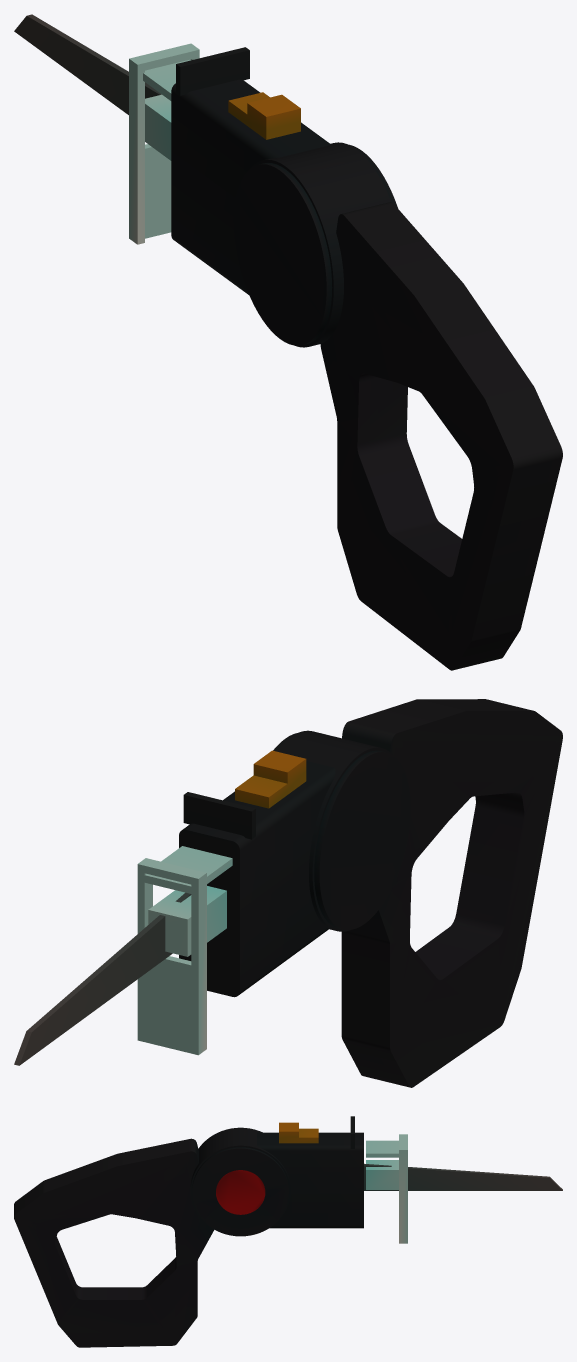
3 views of the same model, one above another, from view 1: azimuth 30°, elevation 25°; view 2: azimuth 150°, elevation 25°; view 3: azimuth 270°, elevation 25° (orthographic). The views are drawn at different scales.
Parts seen in each view (by area): view 1: grip, casing, back, housing, blade, post.001, lip, lower_plate, neck, pad_step, pad, crossbar (+1 smaller); view 2: grip, casing, back, blade, lower_plate, housing, neck, lip, post.001, upper_support, pad, pad_step (+2 smaller); view 3: grip, casing, rim, blade, housing, red_hub, neck, recessed_face, post.002, upper_support, pad, pad_step.
Part boxes in pixels (x1=…): grip: x1=320, y1=202, x2=562, y2=670; casing: x1=171, y1=79, x2=330, y2=294; back: x1=233, y1=163, x2=332, y2=345; housing: x1=251, y1=142, x2=391, y2=347; blade: x1=14, y1=14, x2=161, y2=114; post.001: x1=129, y1=59, x2=144, y2=244; lip: x1=176, y1=47, x2=249, y2=95; lower_plate: x1=145, y1=144, x2=171, y2=238; neck: x1=145, y1=94, x2=171, y2=160; pad_step: x1=247, y1=94, x2=300, y2=130; pad: x1=228, y1=92, x2=300, y2=139; crossbar: x1=129, y1=43, x2=199, y2=71; grip: x1=341, y1=699, x2=562, y2=1087; casing: x1=179, y1=761, x2=335, y2=997; back: x1=314, y1=750, x2=410, y2=929; blade: x1=14, y1=892, x2=191, y2=1065; lower_plate: x1=137, y1=956, x2=198, y2=1055; housing: x1=276, y1=730, x2=393, y2=931; neck: x1=148, y1=886, x2=226, y2=956; lip: x1=183, y1=792, x2=255, y2=839; post.001: x1=191, y1=873, x2=206, y2=1054; upper_support: x1=143, y1=846, x2=232, y2=894; pad: x1=235, y1=770, x2=306, y2=808; pad_step: x1=253, y1=750, x2=306, y2=783; grip: x1=14, y1=1138, x2=213, y2=1347; casing: x1=257, y1=1132, x2=363, y2=1228; rim: x1=192, y1=1147, x2=288, y2=1221; blade: x1=364, y1=1163, x2=562, y2=1190; housing: x1=190, y1=1127, x2=290, y2=1236; red_hub: x1=216, y1=1170, x2=265, y2=1214; neck: x1=366, y1=1160, x2=398, y2=1189; recessed_face: x1=209, y1=1206, x2=271, y2=1228; post.002: x1=399, y1=1150, x2=407, y2=1243; upper_support: x1=366, y1=1140, x2=398, y2=1157; pad: x1=279, y1=1128, x2=318, y2=1143; pad_step: x1=279, y1=1122, x2=298, y2=1137.
Size of the model in its own units: 0.0447 by 0.2169 by 0.499.
